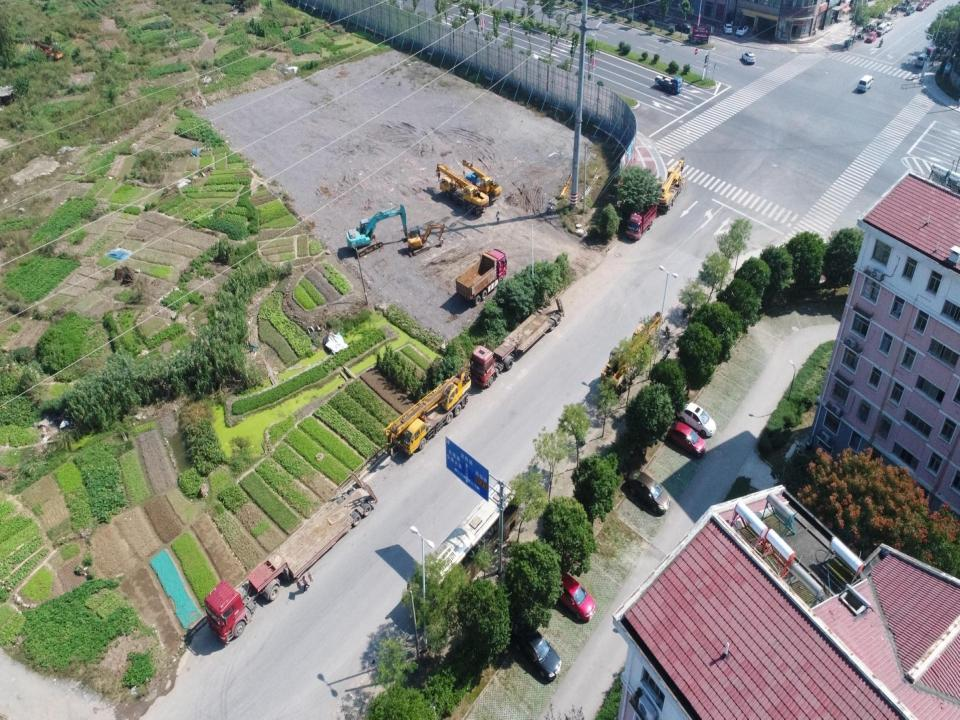car: (512, 618, 562, 681), (548, 569, 596, 622), (626, 468, 670, 514), (665, 419, 706, 459), (676, 399, 716, 437), (736, 22, 750, 37), (675, 22, 693, 33), (741, 51, 756, 64), (866, 30, 877, 43), (723, 20, 733, 34), (883, 21, 894, 32), (916, 1, 927, 11)
truck: (203, 470, 378, 646), (470, 288, 565, 390), (455, 248, 507, 307), (625, 199, 657, 241), (655, 74, 683, 95)
van: (857, 74, 874, 93), (915, 52, 927, 68), (876, 21, 888, 36), (700, 24, 714, 36), (944, 62, 952, 75)
